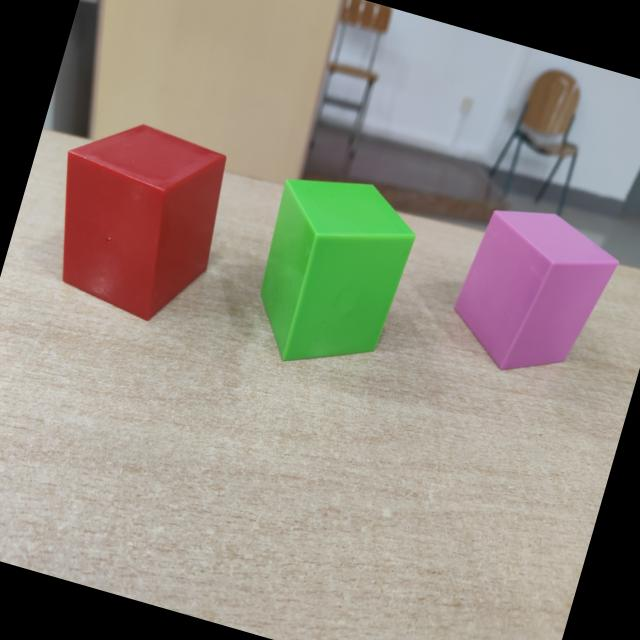green: (258, 180, 415, 363)
pink: (453, 210, 617, 373)
red: (60, 125, 226, 323)
